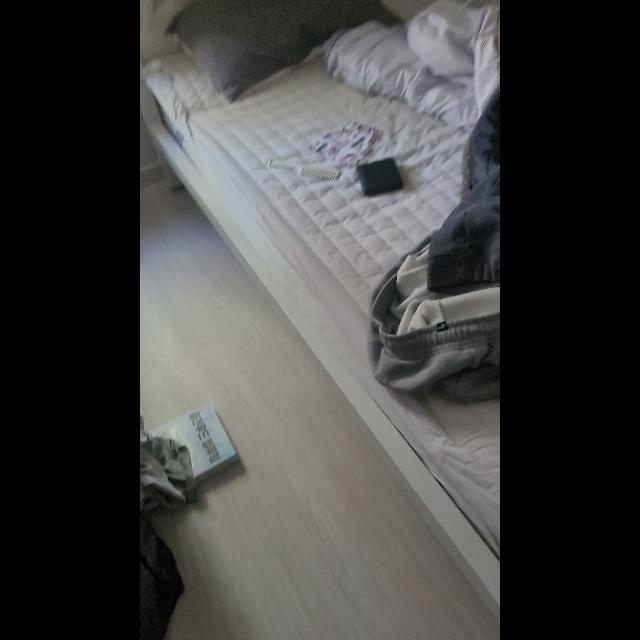COMB: (267, 159, 341, 181)
Glasses cleaning cloth: (308, 121, 384, 167)
WALLET: (356, 158, 402, 196)
